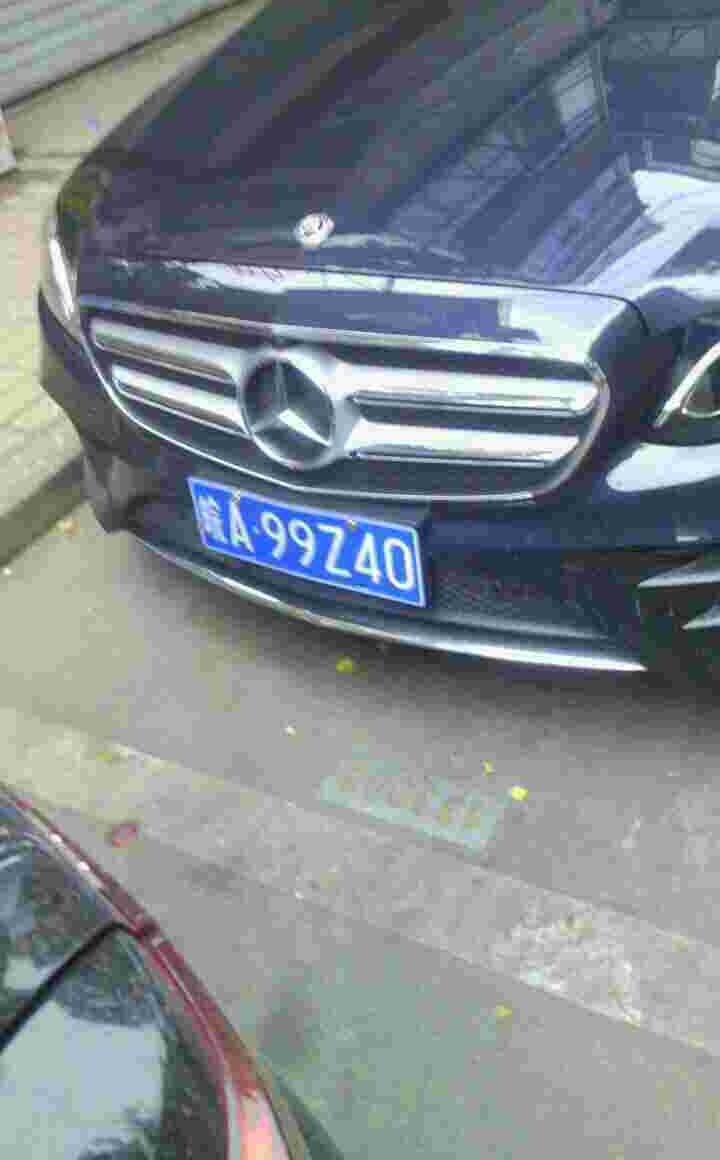license_plate: (195, 486, 440, 600)
